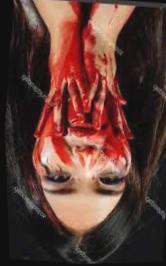Fire: (32, 3, 133, 180)
